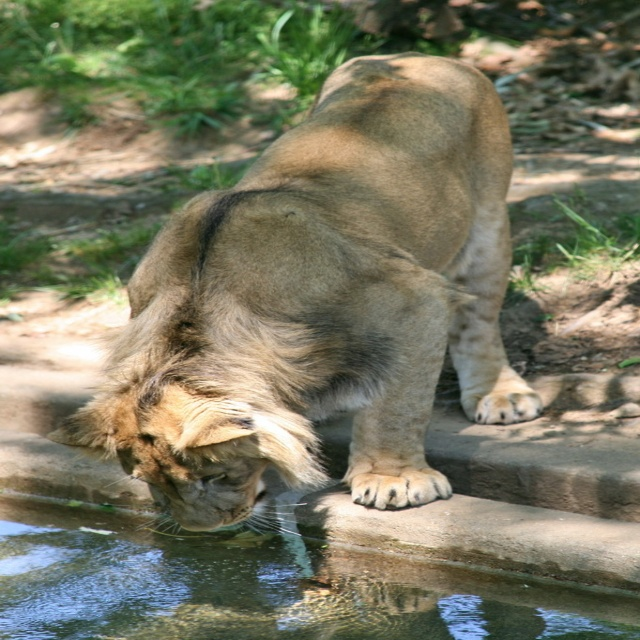Lion: (47, 50, 544, 539)
